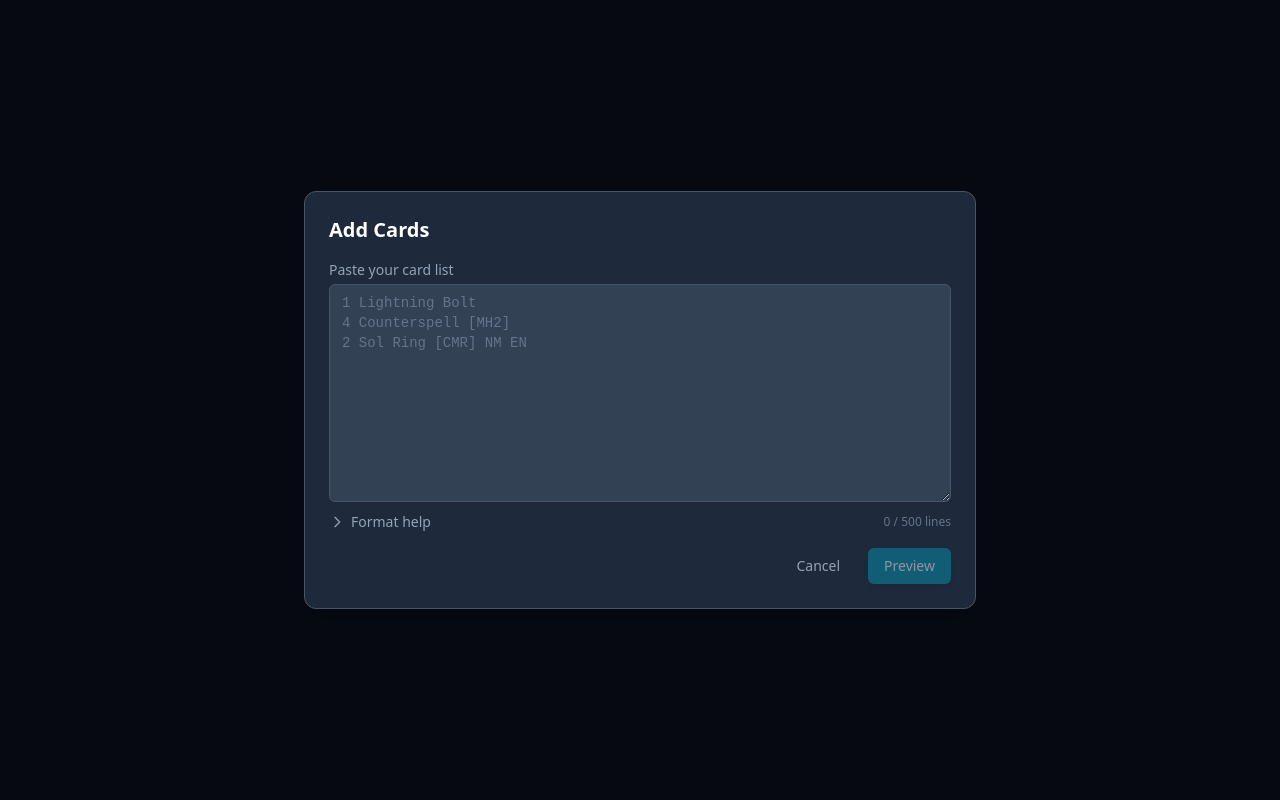
Test: BatchAddModal › success shows result and close button
This screenshot has width=1280, height=800.
Type "test" into the text box with test id "batch-textarea" at x=640, y=393, box [329,284,951,502]
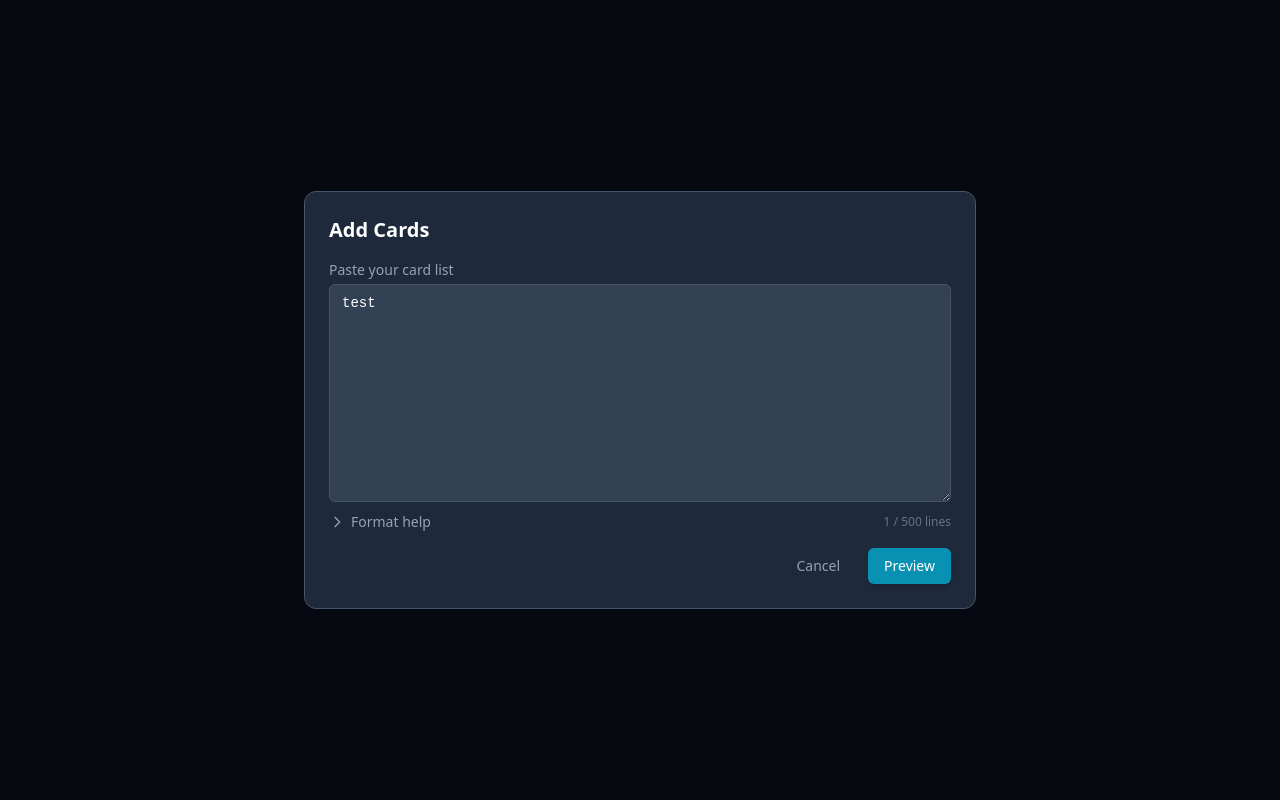
Click the button with test id "batch-preview-btn" at x=910, y=566, box [868,548,951,584]
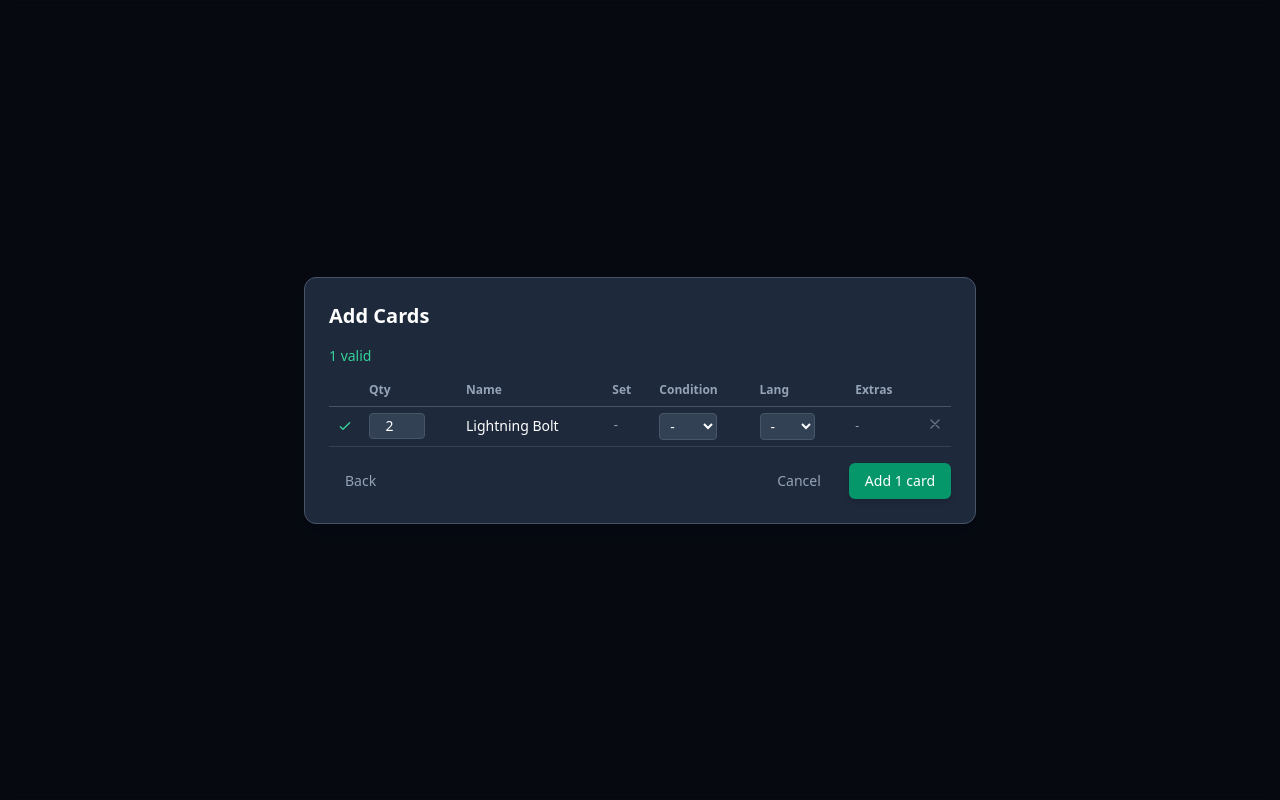
Expected: the button with test id "batch-add-btn" is shown
Click the button with test id "batch-add-btn" at x=900, y=480, box [849,462,951,498]
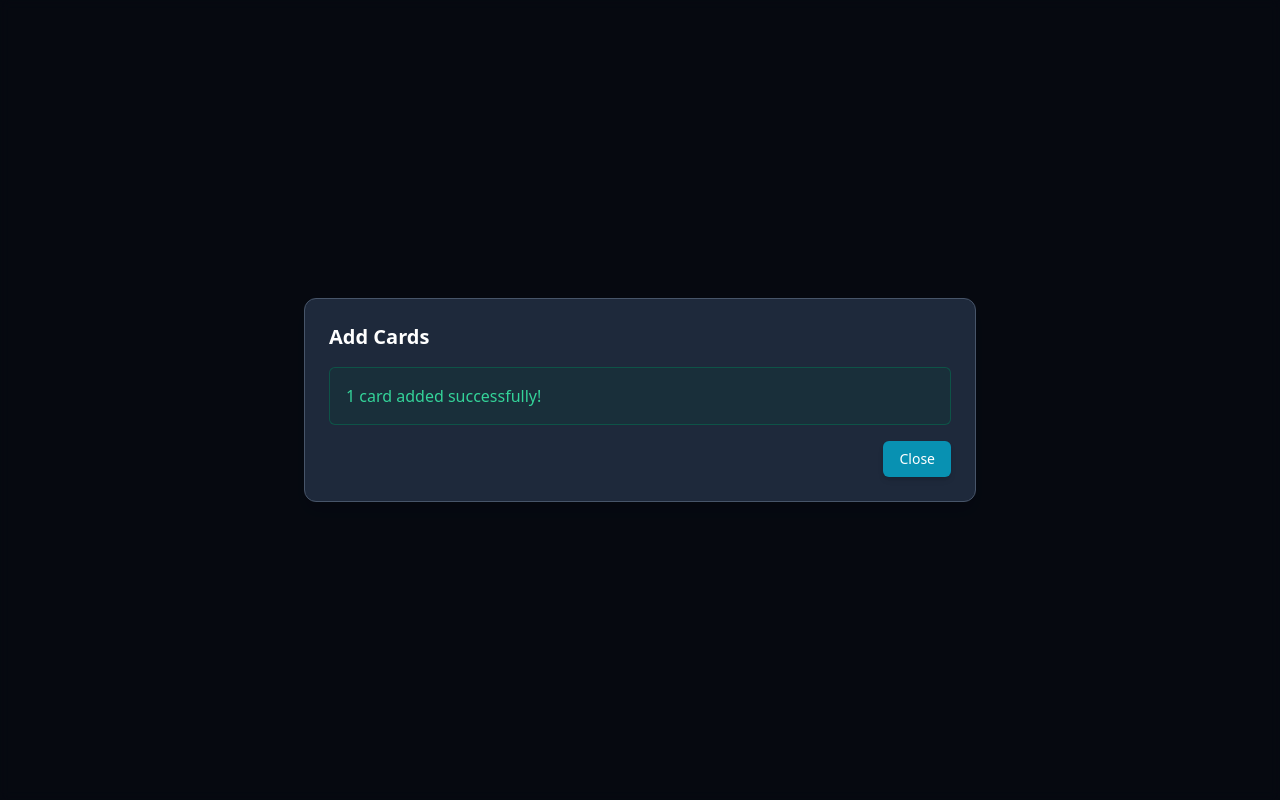
Expected: the element with test id "batch-result" is shown, [329,367,951,425]
Expected: the button with test id "batch-close-btn" is shown, [884,441,951,477]
